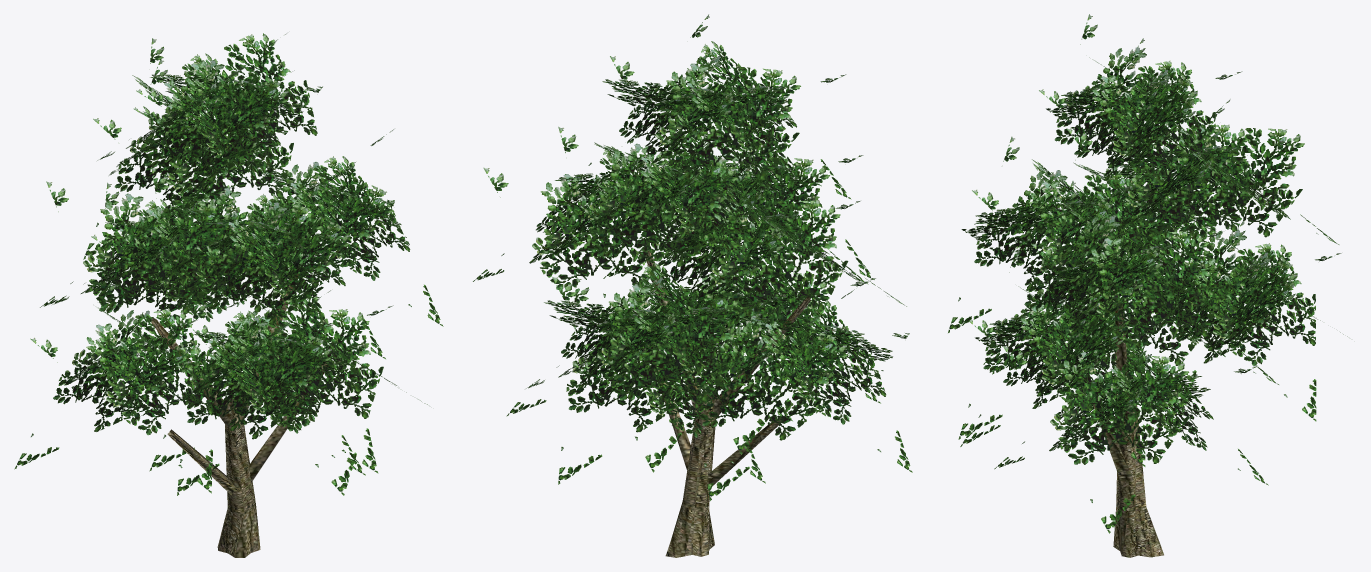
File: flora_tree_oak_large_v2.glb
3 views of the same model, side by side, from view 1: azimuth 30°, elevation 25°; view 2: azimuth 150°, elevation 25°; view 3: azimuth 270°, elevation 25° (orthographic). The views are drawn at different scales.
Visible parts, largest first — view 1: flora_tree_oak_large_v2_part1, flora_tree_oak_large_v2_part0; view 2: flora_tree_oak_large_v2_part1, flora_tree_oak_large_v2_part0; view 3: flora_tree_oak_large_v2_part1, flora_tree_oak_large_v2_part0.
Part boxes in pixels (bbox=[...]): flora_tree_oak_large_v2_part1: bbox=[14, 33, 443, 495]; flora_tree_oak_large_v2_part0: bbox=[151, 274, 328, 557]; flora_tree_oak_large_v2_part1: bbox=[473, 14, 912, 500]; flora_tree_oak_large_v2_part0: bbox=[645, 250, 810, 557]; flora_tree_oak_large_v2_part1: bbox=[948, 14, 1347, 533]; flora_tree_oak_large_v2_part0: bbox=[1093, 268, 1163, 557].
Bounding box in the file's own units: 18.58 × 20.78 × 16.47.
2 materials, 2 textured.
